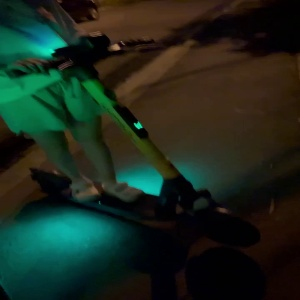human on a scooter: (1, 1, 276, 285)
